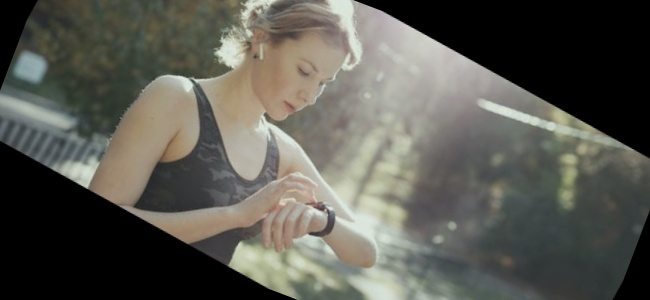earphone: (242, 24, 279, 64)
